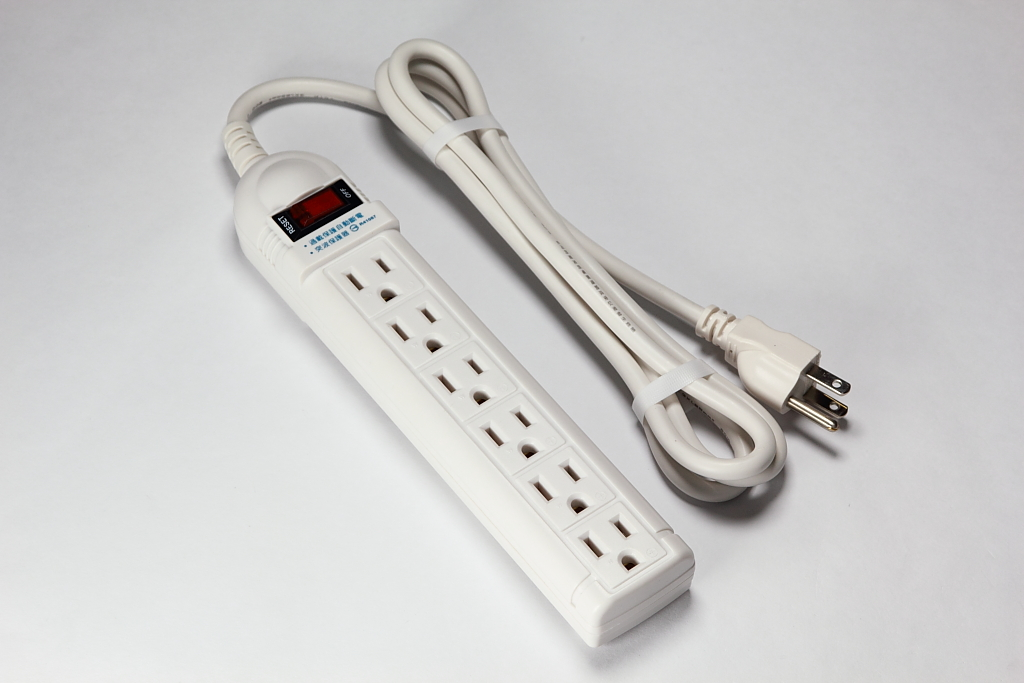socket: (219, 121, 696, 647)
